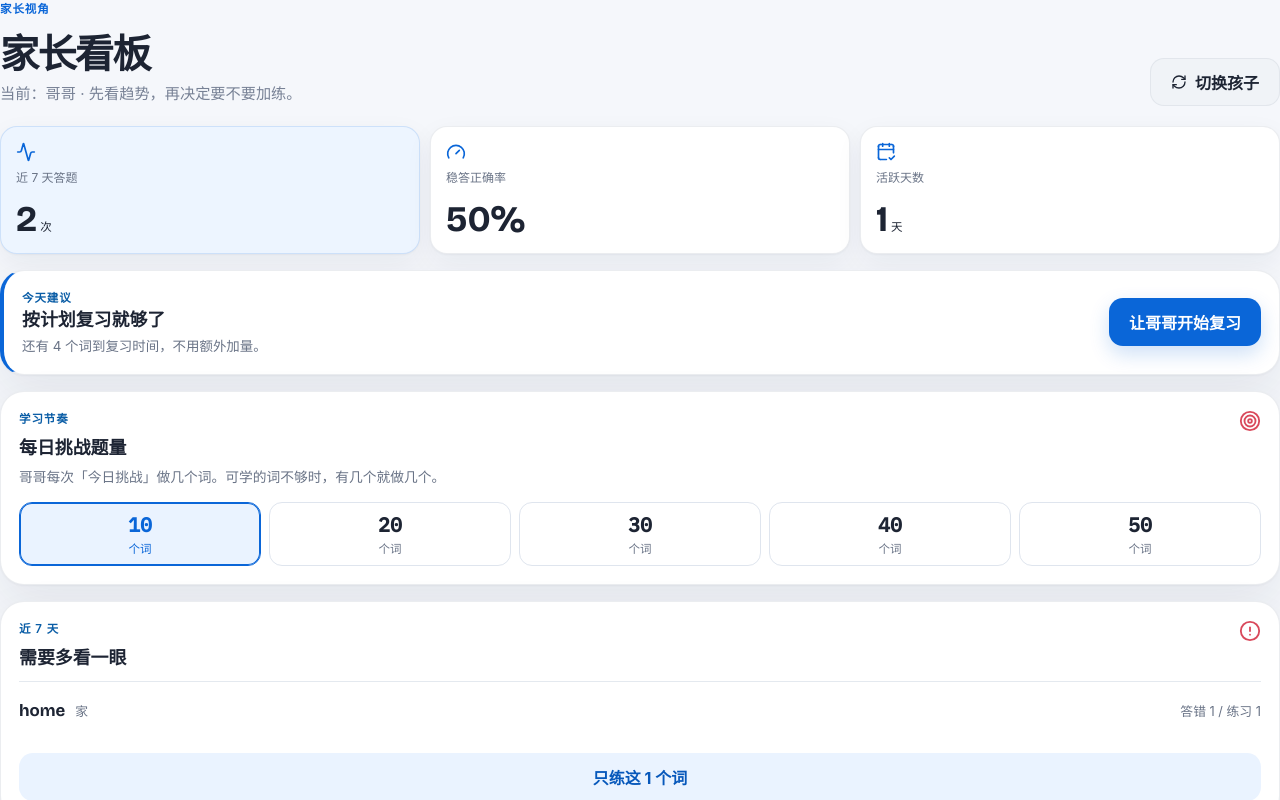
Test case: MePage parent insights › keeps the saved daily size and shows why when saving fails
What coordinates should you click on to do the following:
click the radio button with aria-label "每次 50 个词"
I would click on:
 (1140, 534)
Its box is x1=1019 y1=502 x2=1261 y2=566.
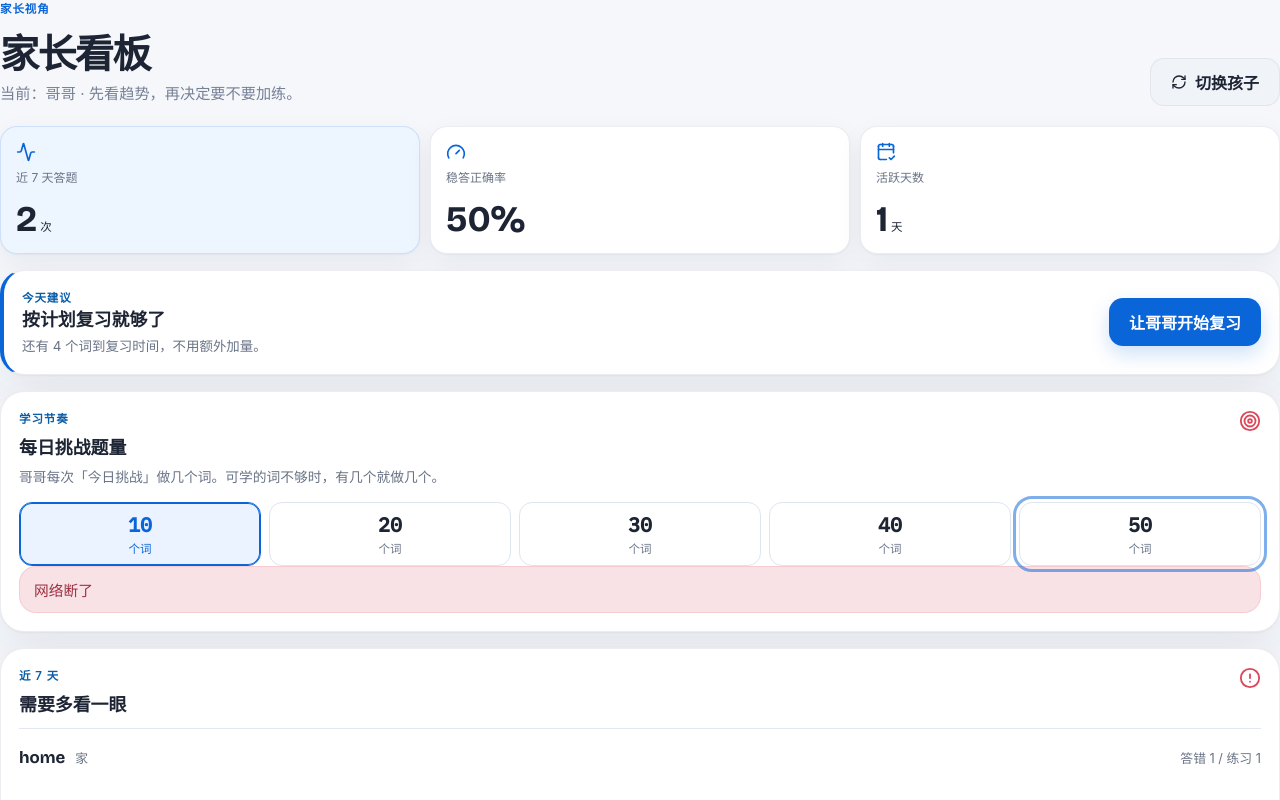
expect the message reads "网络断了": met, box x1=34 y1=582 x2=93 y2=600
